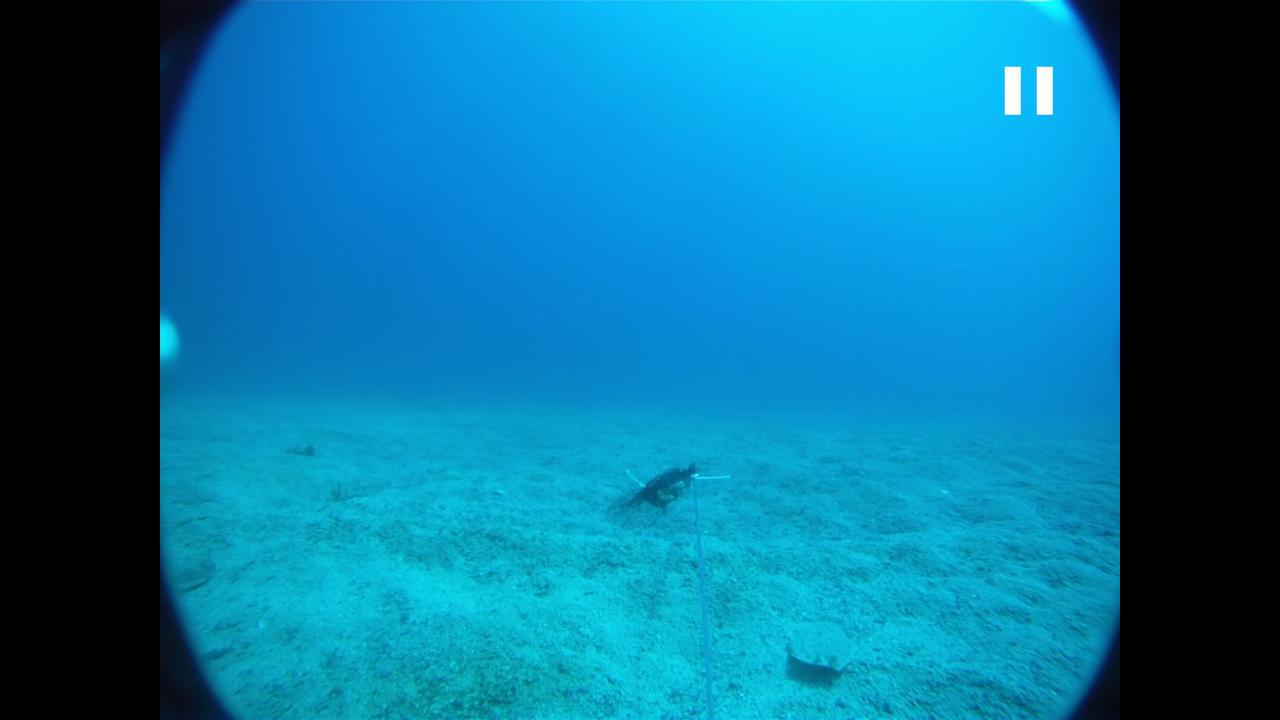bothus: (786, 614, 863, 678)
